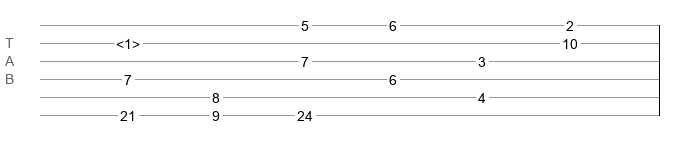10: (562, 36, 578, 46)
2: (566, 18, 574, 28)
21: (120, 108, 136, 118)
24: (297, 108, 313, 118)
3: (478, 54, 486, 64)
4: (478, 90, 486, 100)
5: (301, 18, 309, 28)
6: (389, 18, 397, 28), (389, 72, 397, 82)
7: (124, 72, 132, 82), (301, 54, 309, 64)
8: (212, 90, 220, 100)
9: (212, 108, 220, 118)
harmonic: (116, 36, 140, 46)
